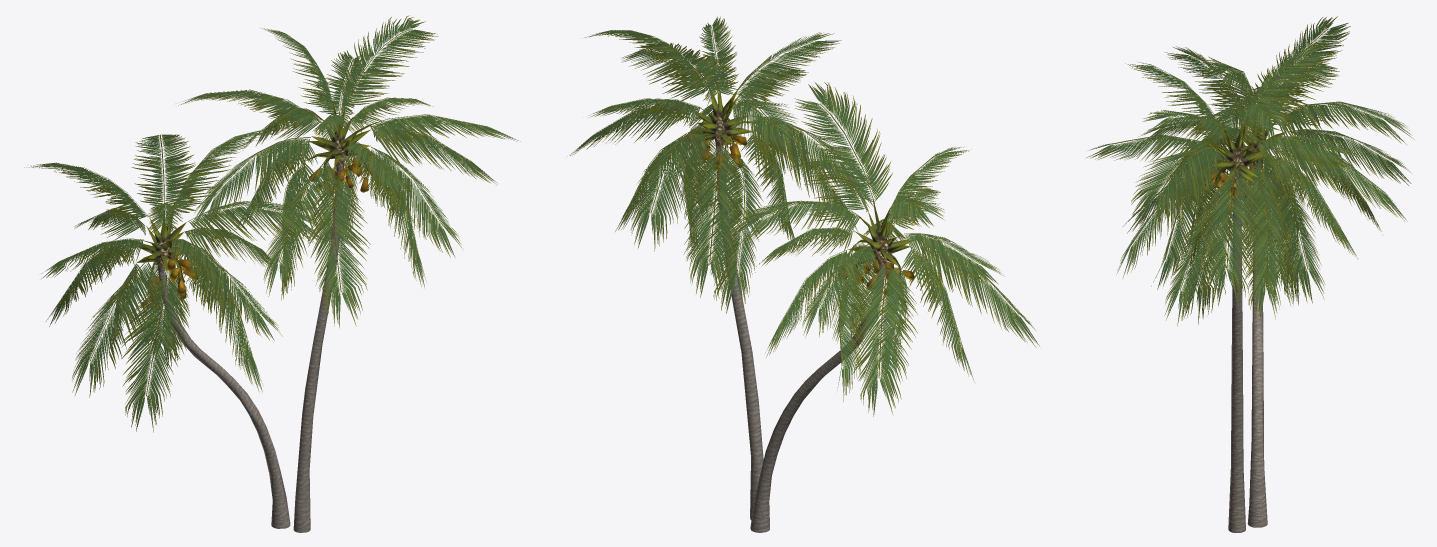
File: coconut-far.glb
3 views of the same model, side by side, from view 1: azimuth 30°, elevation 25°; view 2: azimuth 150°, elevation 25°; view 3: azimuth 270°, elevation 25° (orthographic). The views are drawn at different scales.
Visible parts, largest first — view 1: Tree_2, Tree_0, Tree_3, Tree_4; view 2: Tree_2, Tree_0, Tree_3, Tree_4; view 3: Tree_2, Tree_0, Tree_3, Tree_4.
Boxes of the visible parts, x1,y1,x2,y2 form: Tree_2: [24, 15, 520, 432]; Tree_0: [158, 170, 342, 532]; Tree_3: [134, 102, 376, 282]; Tree_4: [141, 154, 378, 308]; Tree_2: [567, 16, 1039, 416]; Tree_0: [716, 151, 885, 532]; Tree_3: [687, 84, 913, 291]; Tree_4: [685, 134, 914, 302]; Tree_2: [1085, 16, 1414, 326]; Tree_0: [1228, 187, 1267, 532]; Tree_3: [1205, 120, 1286, 202]; Tree_4: [1202, 163, 1283, 213].
Size of the model in its own units: 6.3 by 6.28 by 4.02.
5 materials, 5 textured.
